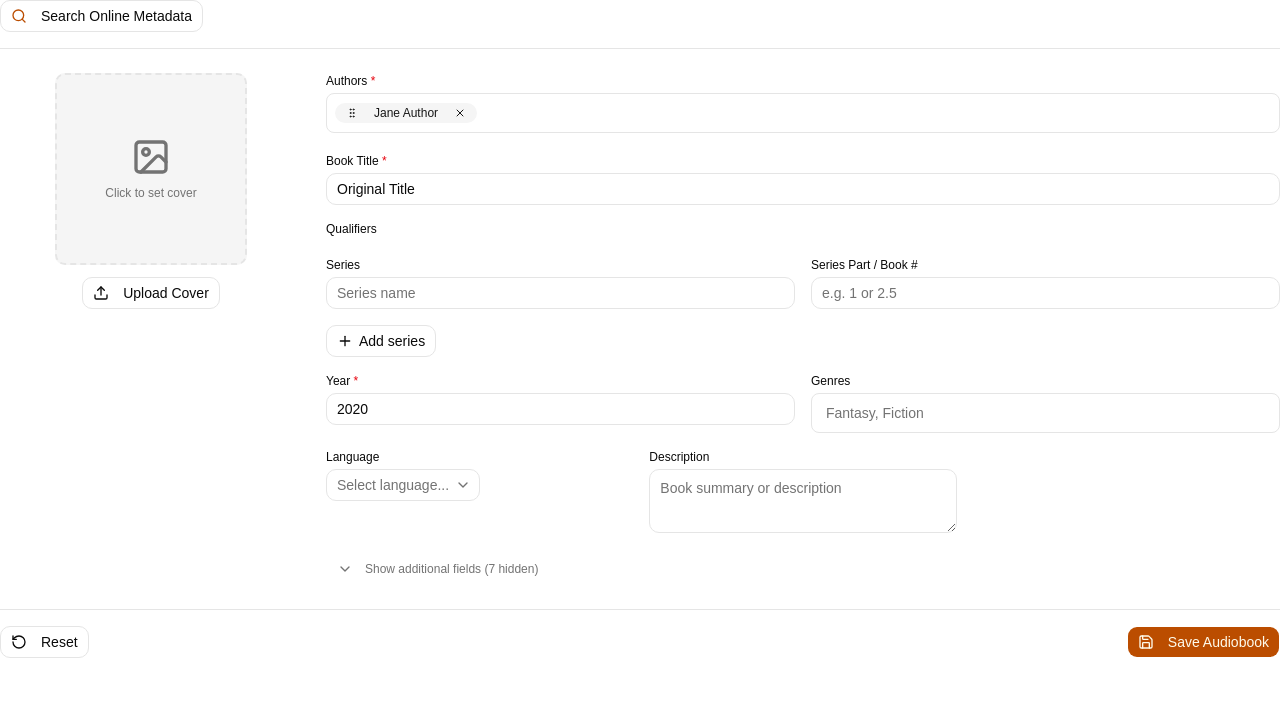
Test: BookEditForm › shows a hint for an author applied from a scraped metadata search result, not just hand-typed entries
Click the button "Search Online Metadata": point(102, 16) left=0, top=0, right=203, bottom=32
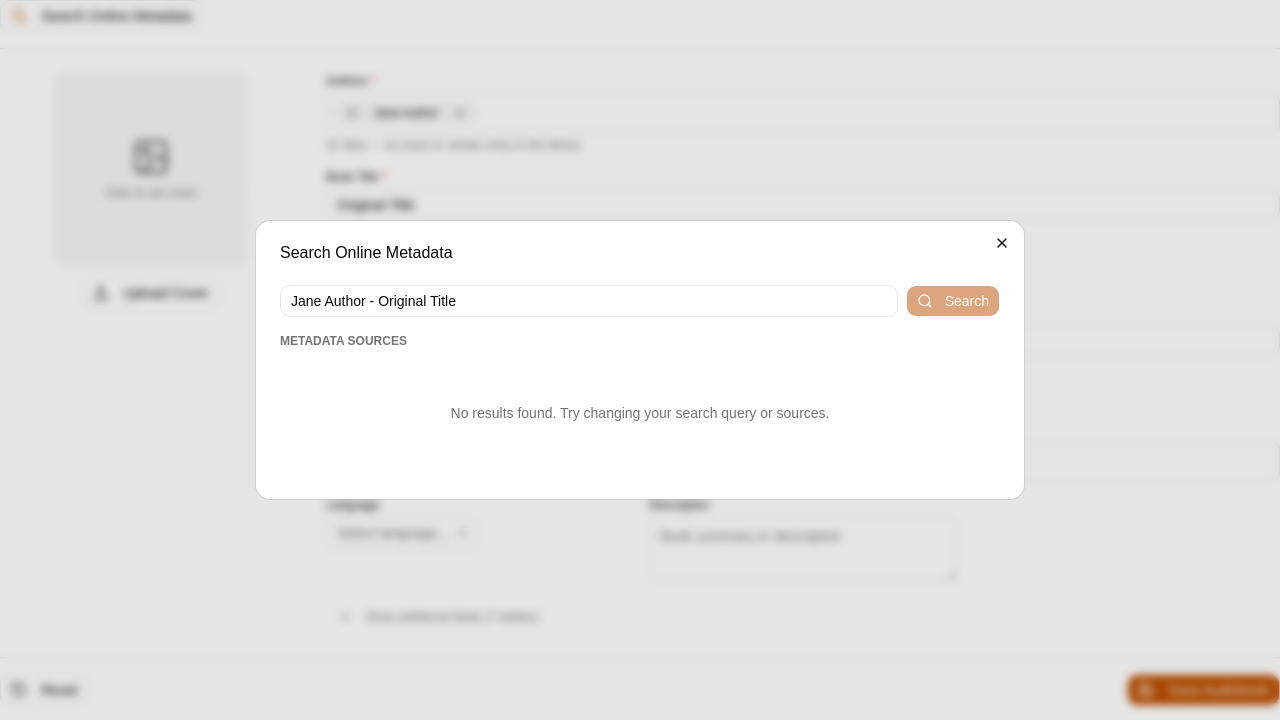
Replace the text in the field with placeholder "Search title, author, or paste URL..." with "Scraped": point(589, 301) left=280, top=285, right=898, bottom=317
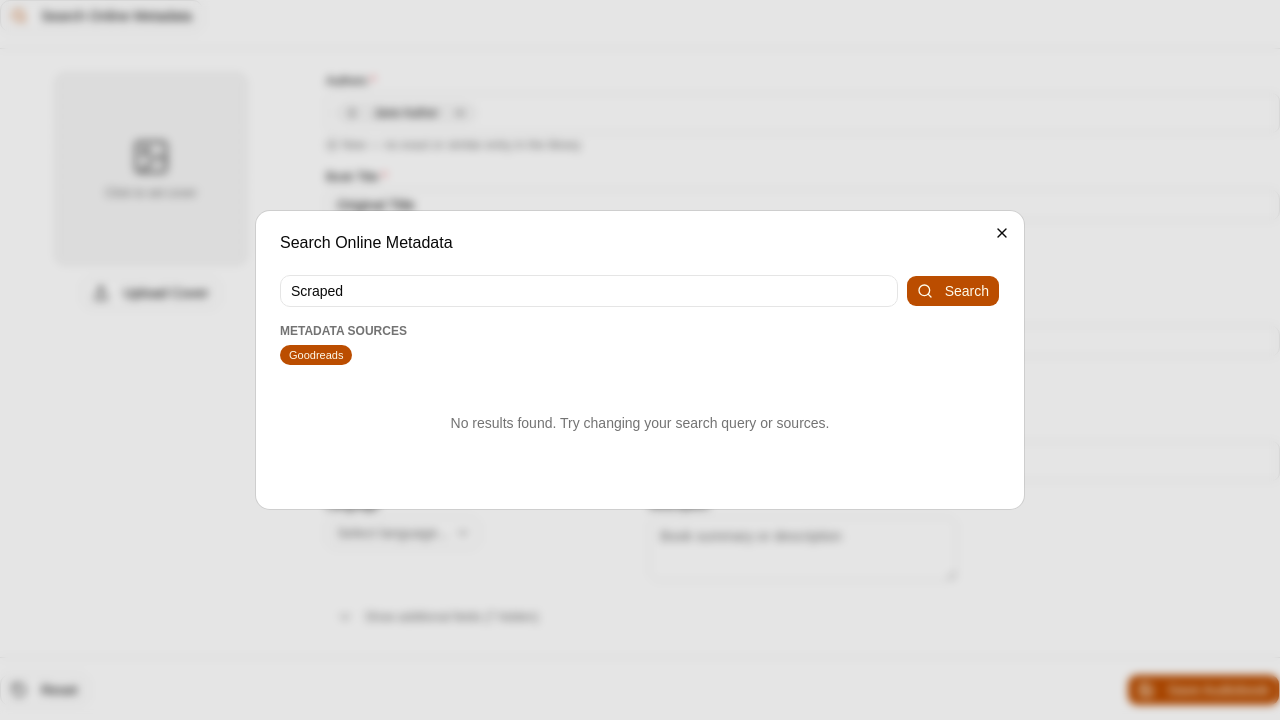
Submit the form with placeholder "Search title, author, or paste URL...", box left=280, top=275, right=1000, bottom=307
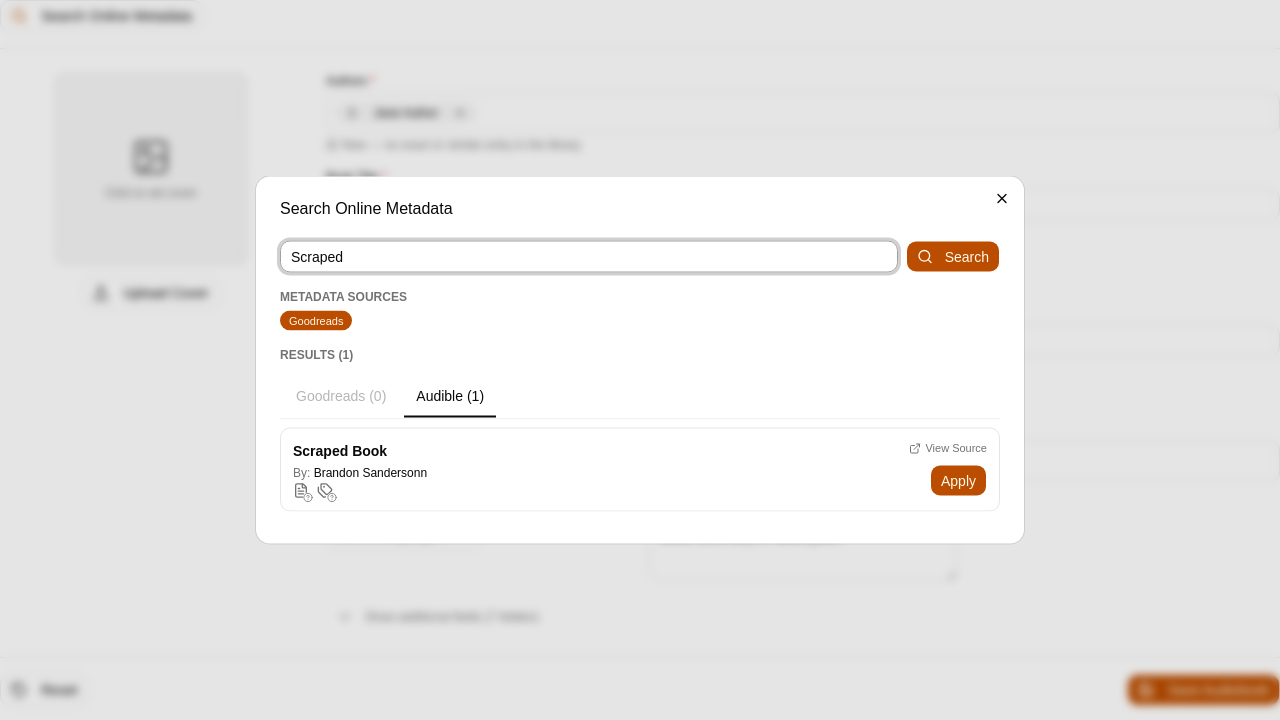
Click the button "Apply": point(958, 480) left=930, top=464, right=987, bottom=496
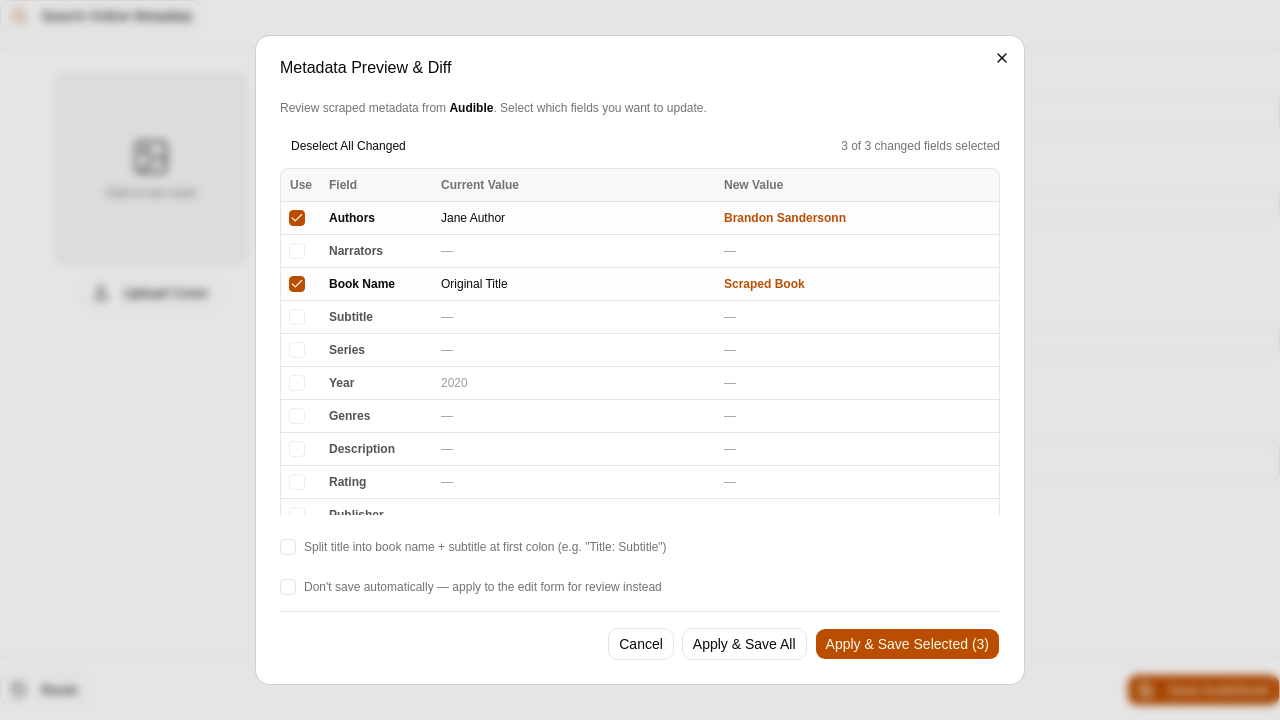
Click the button "Apply & Save All": point(744, 644) left=682, top=628, right=806, bottom=660
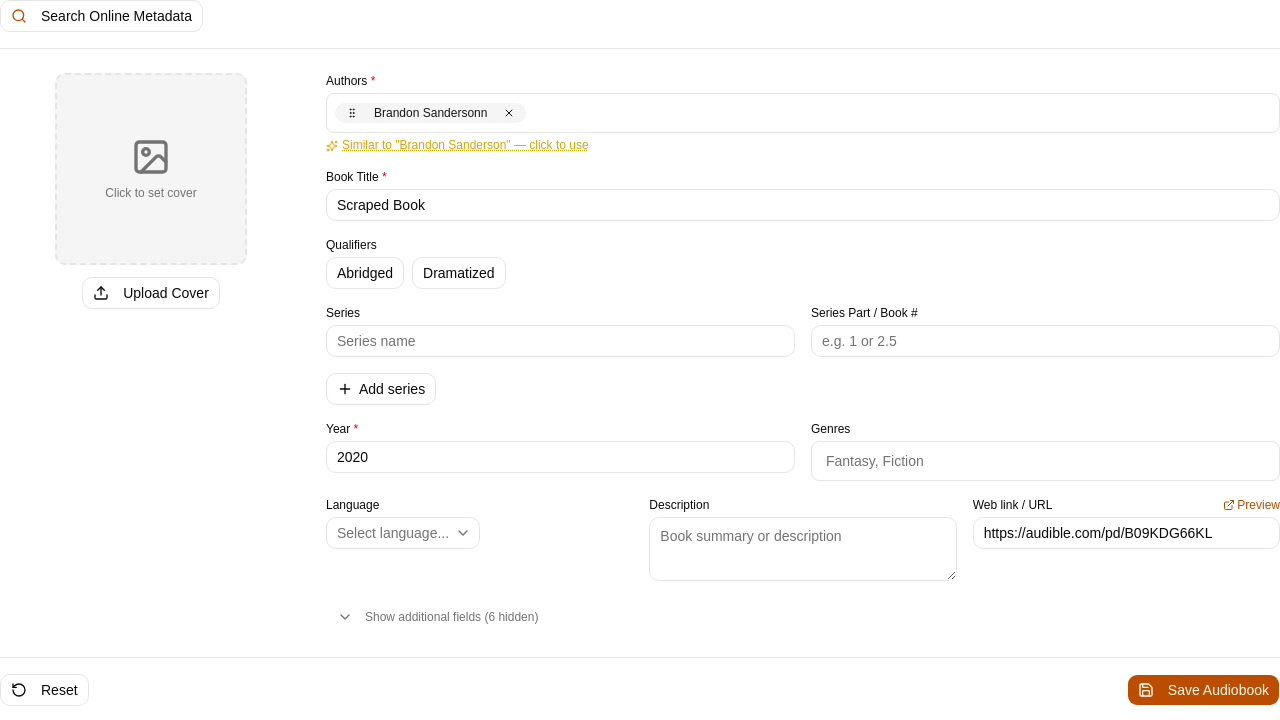
Result: the button "Similar to \"Brandon Sanderson\" — click to use" is shown at left=326, top=137, right=589, bottom=153
